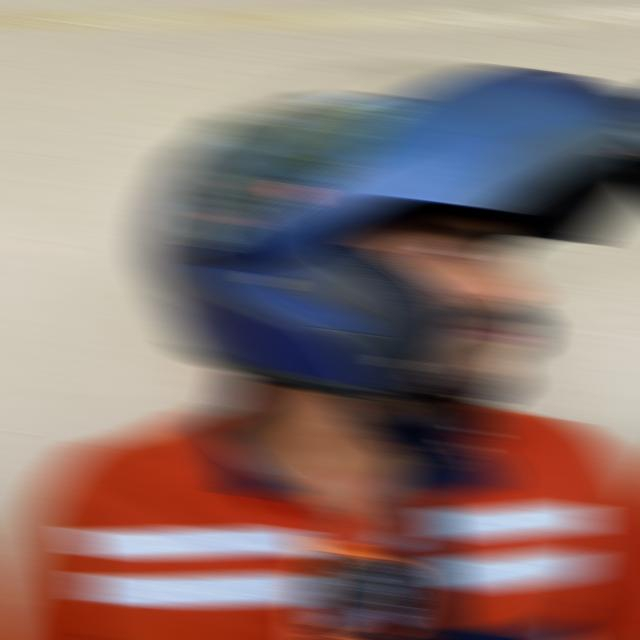With Helmet: (132, 59, 640, 402)
